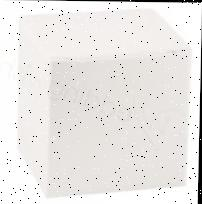cube: (18, 6, 191, 198)
